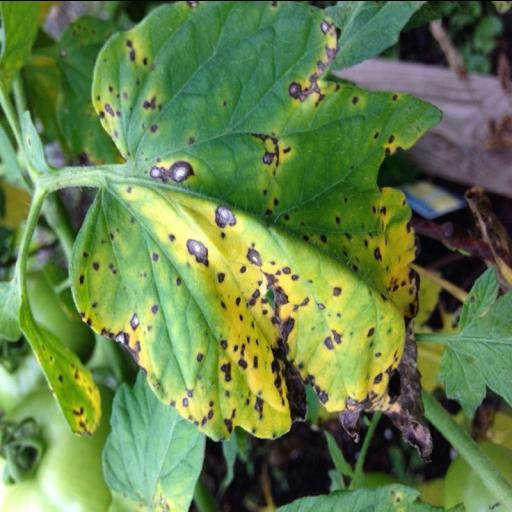Septoria: (68, 0, 448, 466), (14, 296, 104, 442)
